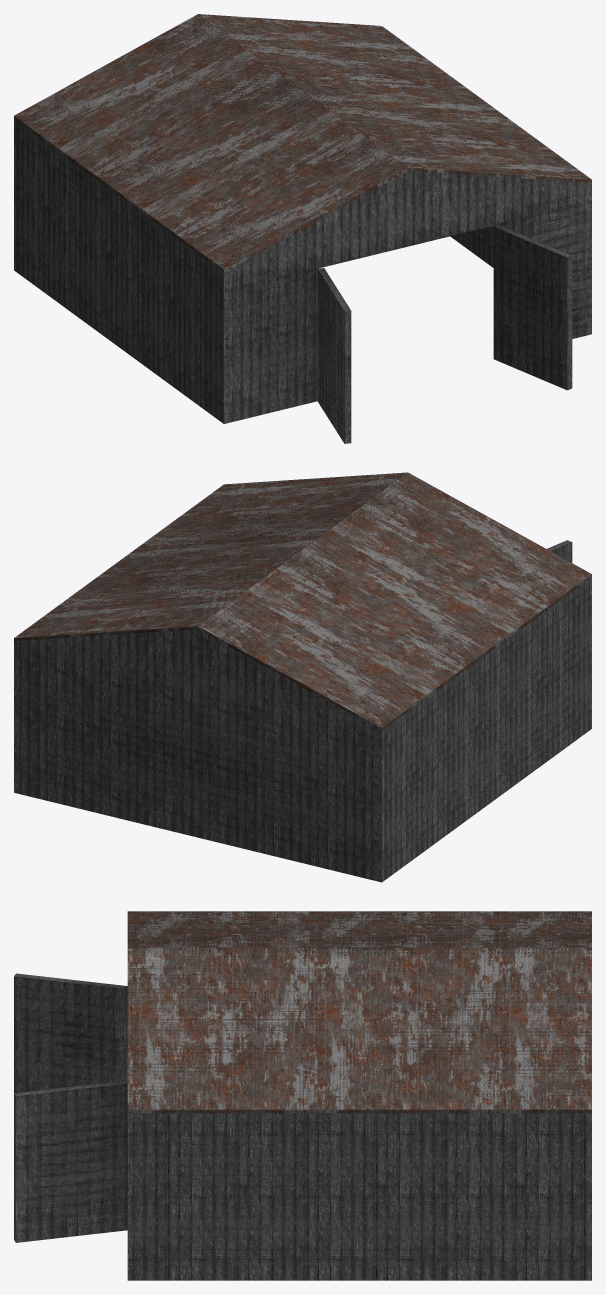
Rendered from v_barn.glb.
The picture shows the model from 3 angles, top to bottom: view 1: azimuth 30°, elevation 25°; view 2: azimuth 150°, elevation 25°; view 3: azimuth 270°, elevation 25°; orthographic projection. The views are drawn at different scales.
Parts seen in each view (by area): view 1: body|Planks_004_Old, body|RG_Albedo; view 2: body|Planks_004_Old, body|RG_Albedo; view 3: body|Planks_004_Old, body|RG_Albedo.
Part boxes in pixels (x1,y1,x2,y2): body|Planks_004_Old: [14, 119, 591, 443]; body|RG_Albedo: [14, 14, 591, 272]; body|Planks_004_Old: [14, 540, 591, 882]; body|RG_Albedo: [14, 472, 591, 730]; body|Planks_004_Old: [14, 973, 591, 1280]; body|RG_Albedo: [127, 911, 591, 1113].
Size of the model in its own units: 12.2 by 6.7 by 15.01.
2 materials, 2 textured.
